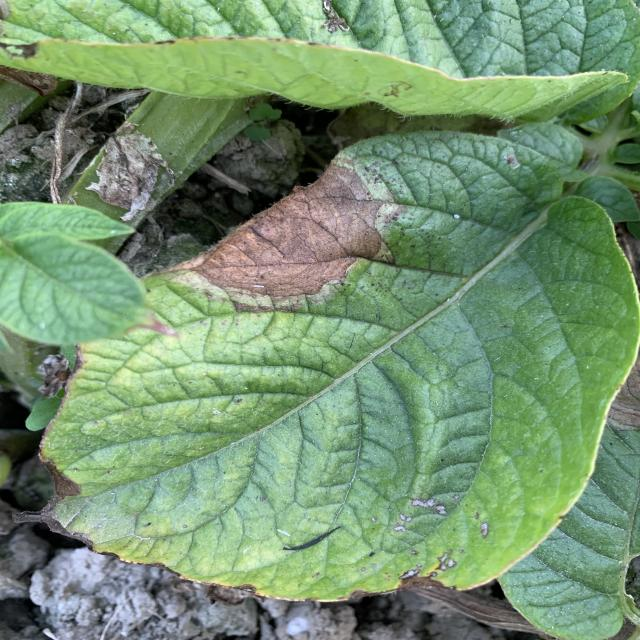lateblight: (163, 164, 403, 309)
